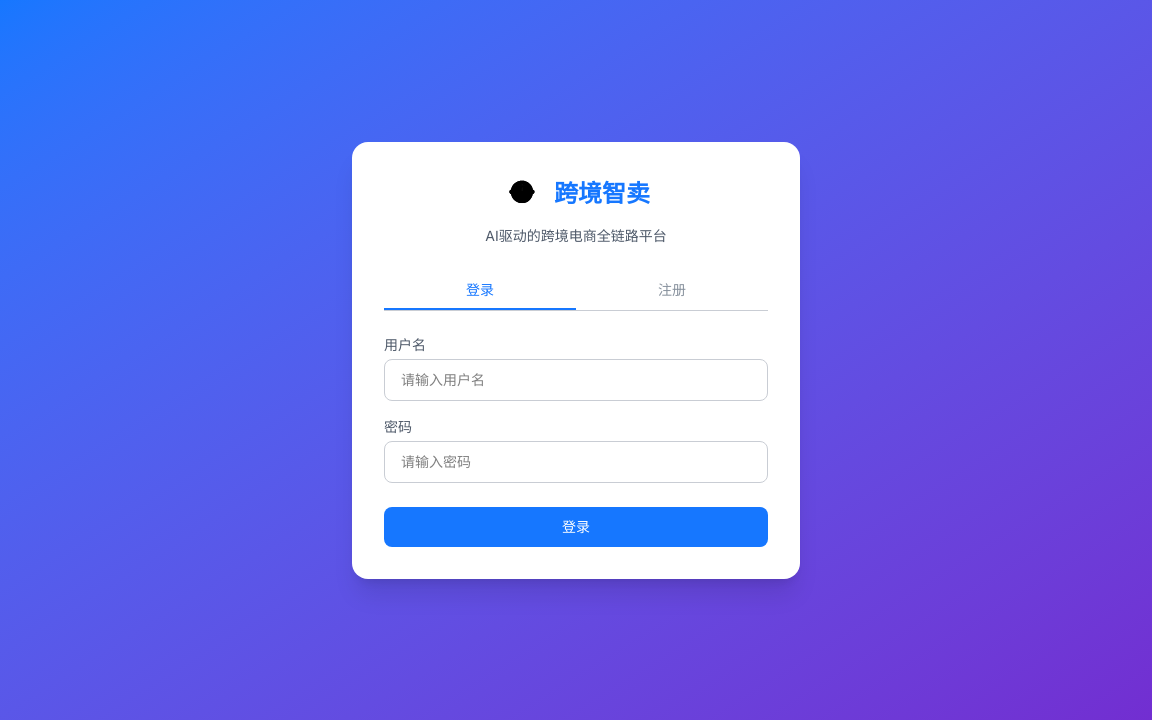
Scenario: LoginPage - Tabs › switching back to login tab shows login form
This screenshot has width=1152, height=720.
Click the button "注册".
click(672, 290)  # box [576, 270, 768, 310]
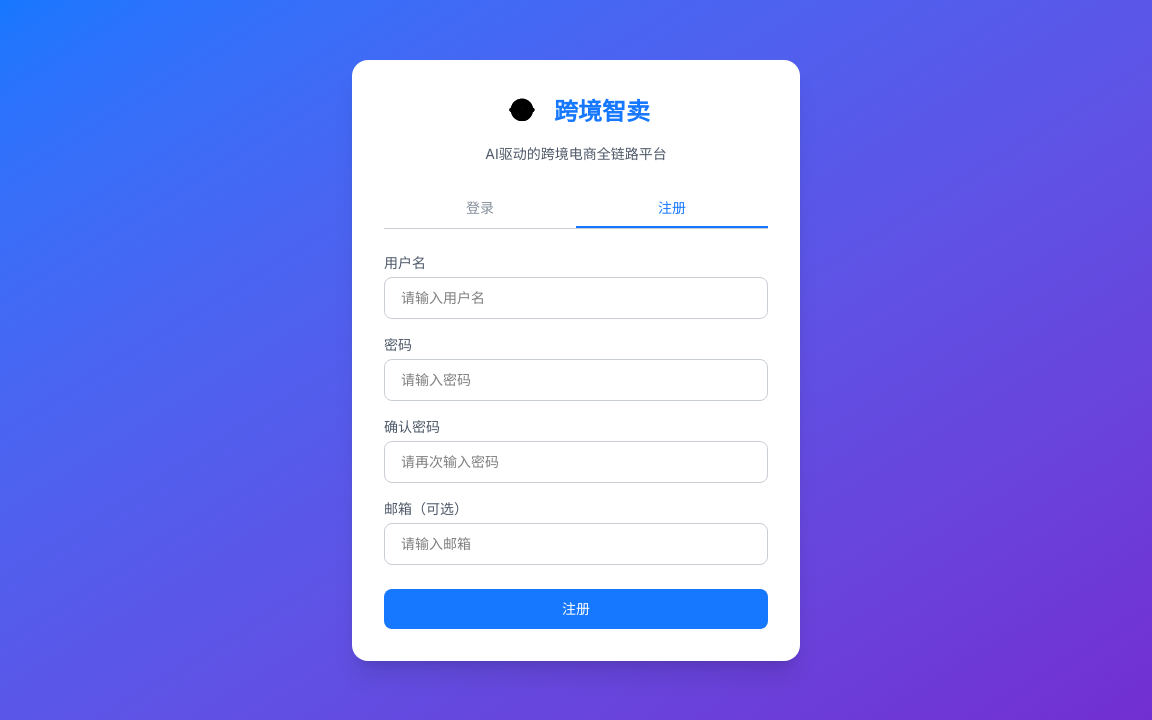
Now the password field with placeholder "请再次输入密码" is shown, box [384, 440, 768, 482]
Click the button "登录".
click(480, 208)  # box [384, 188, 576, 228]
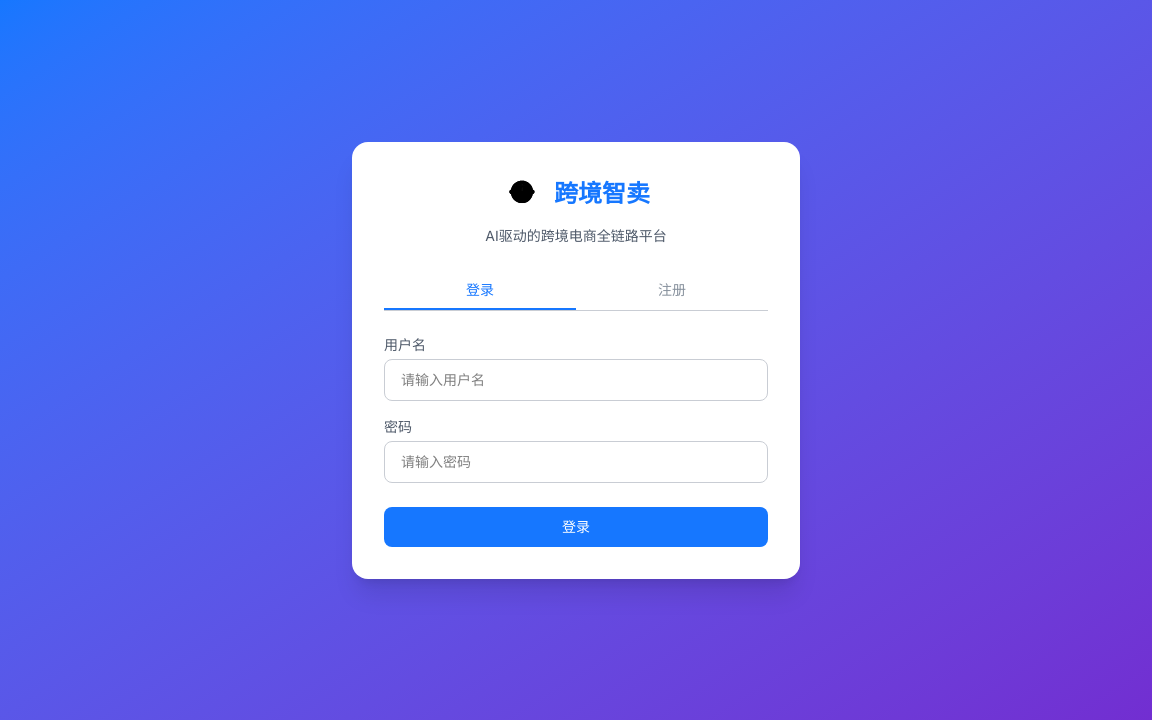
Now the password field with placeholder "请再次输入密码" is gone
Now the field with placeholder "请输入邮箱" is gone
